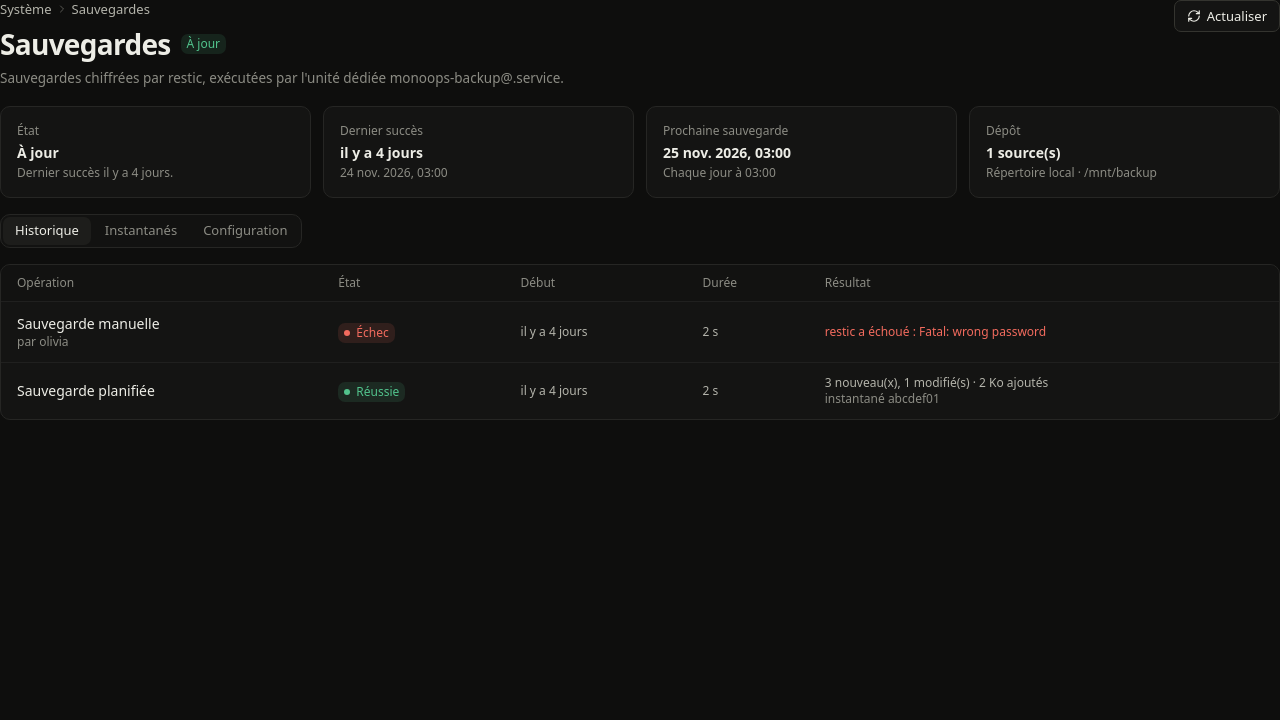
Test: BackupsPage › shows the state and the history, read-only for a viewer
This screenshot has width=1280, height=720.
Expected: the text "restic a échoué : Fatal: wrong password" is shown, [825,323,1046,340]
Expected: the text "Sauvegarde planifiée" is shown, [17,381,155,400]
Click the button "Configuration" at (245, 231), box [191,217,299,245]
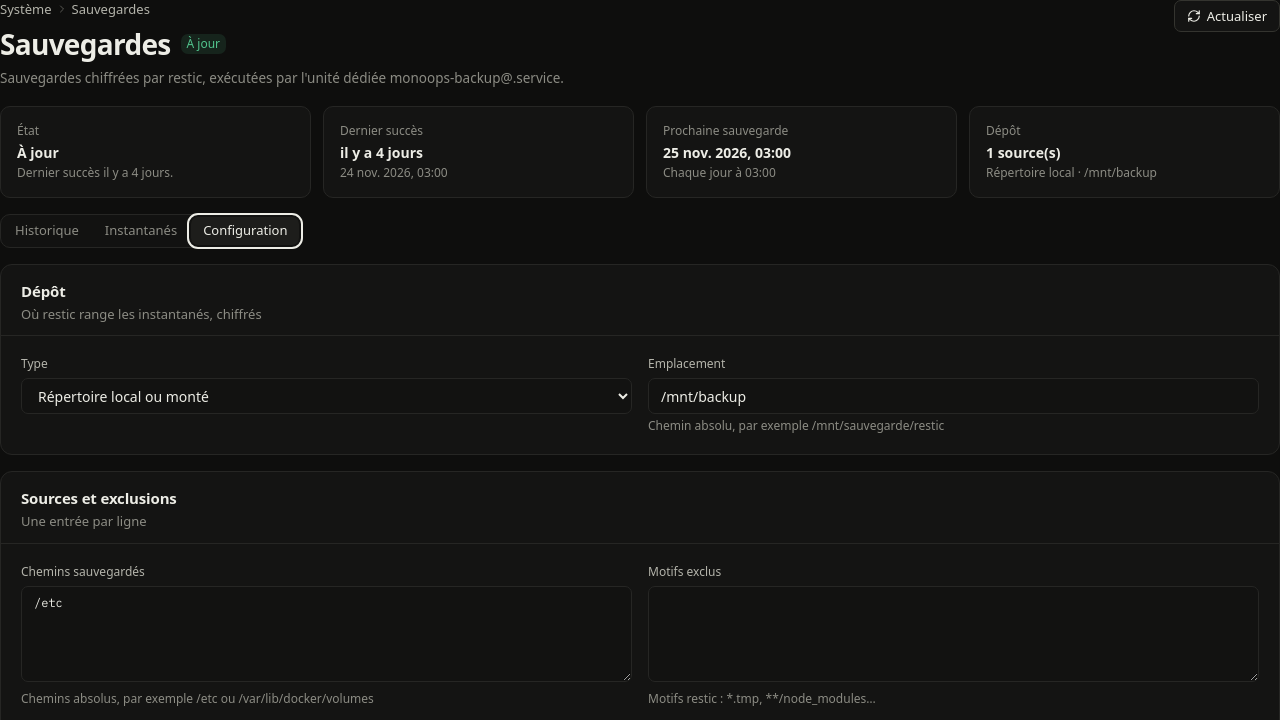
Now the field labelled "Emplacement" is disabled, box [648,378,1259,414]
